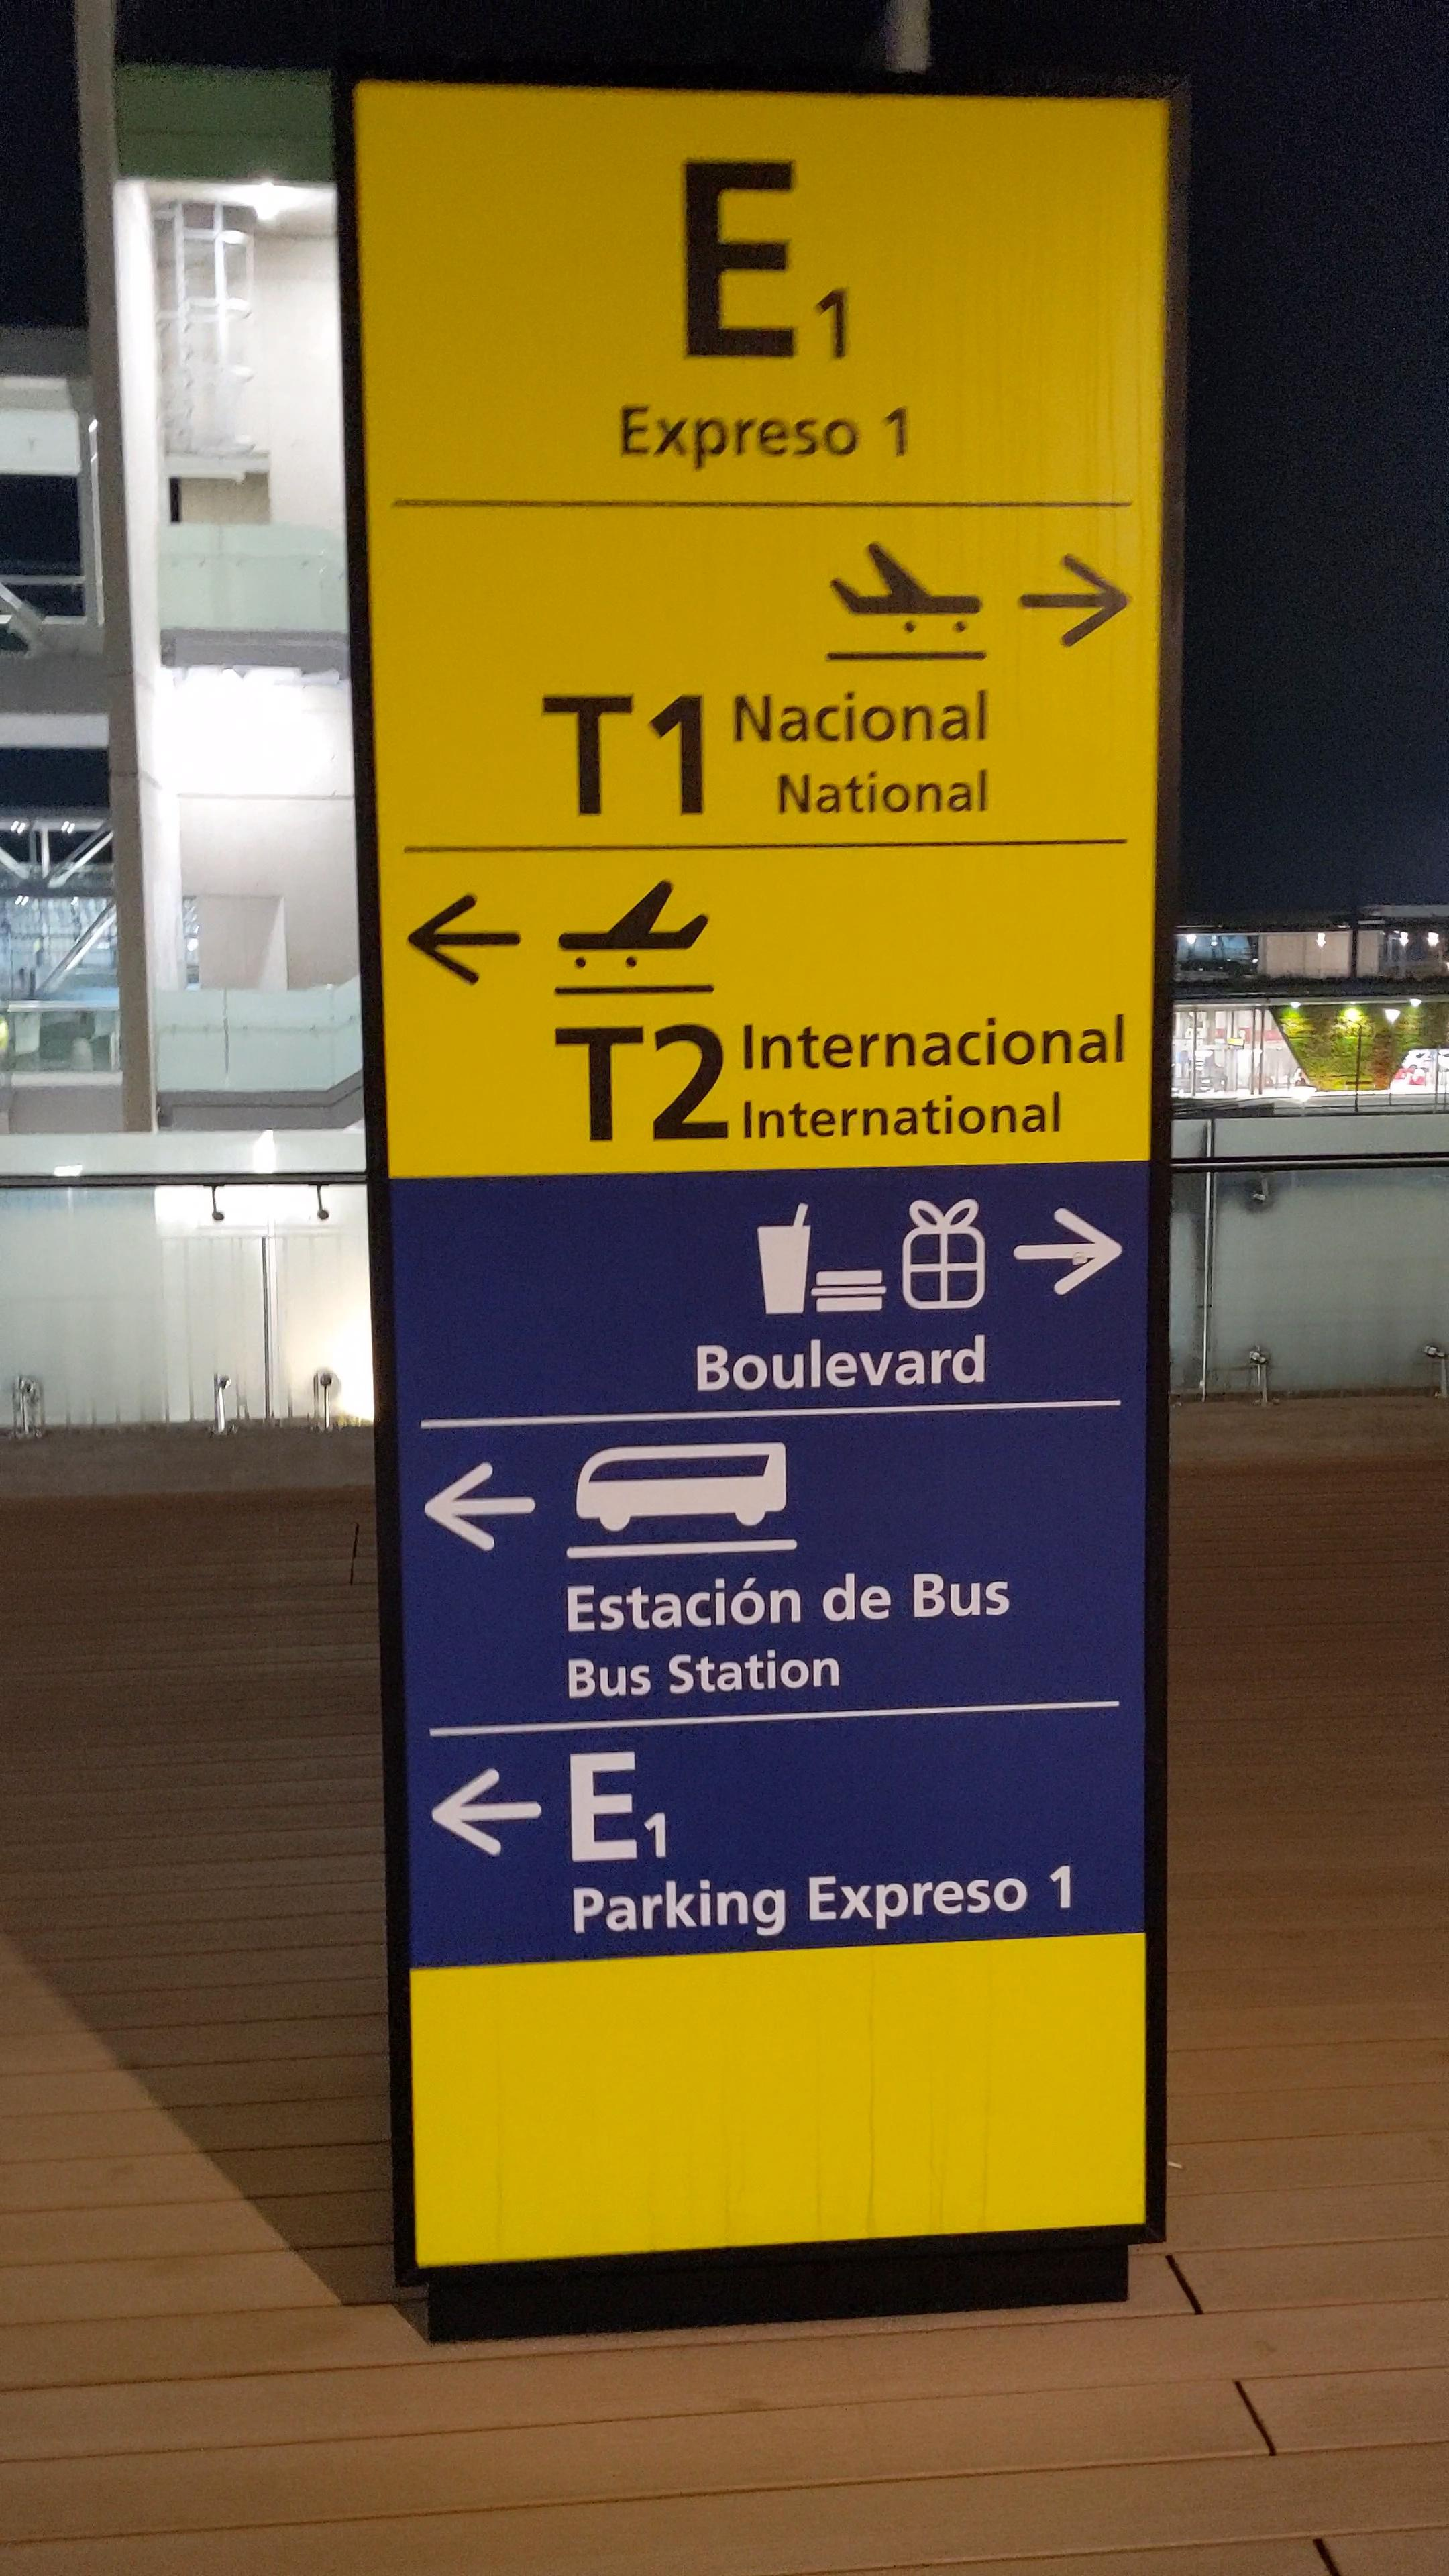airplane symbol: (548, 869, 718, 982), (826, 540, 993, 644)
thin left arrow: (400, 883, 531, 1000), (421, 1456, 541, 1562), (433, 1760, 543, 1865)
thin right arrow: (1010, 540, 1134, 660), (1014, 1194, 1123, 1307)
